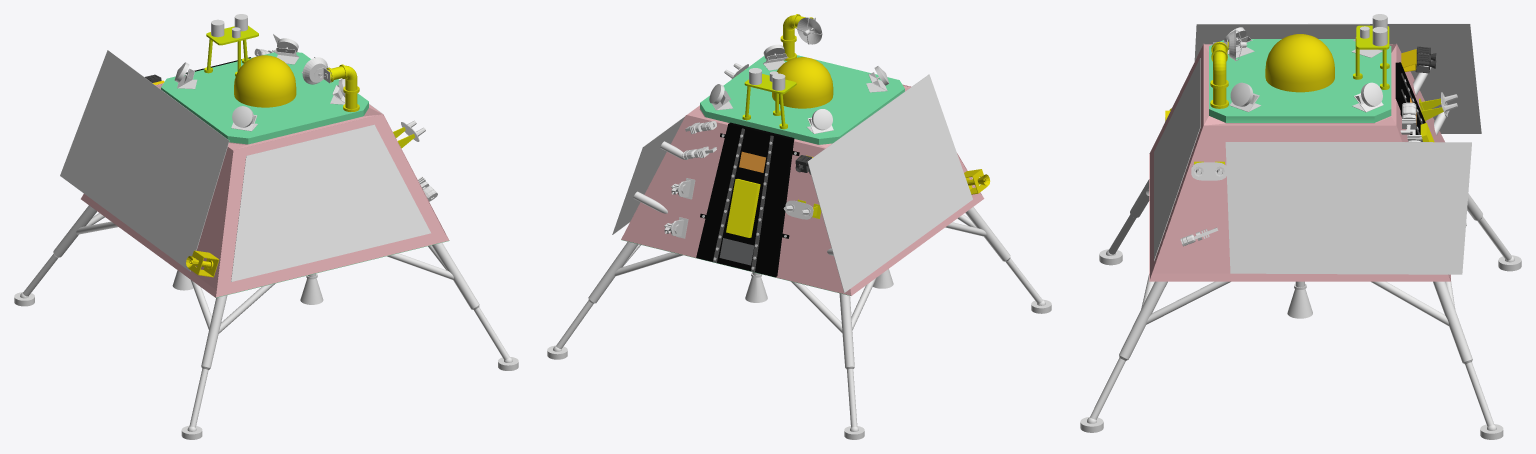
File: Lander 4.fbx
3 renders of one model, left to right at view 1: azimuth 30°, elevation 25°; view 2: azimuth 150°, elevation 25°; view 3: azimuth 270°, elevation 25°, orthographic. The views are drawn at different scales.
Visible parts, largest first — view 1: Body.001; view 2: Body.001, door; view 3: Body.001, door.
Boxes of the visible parts, left/top/right/bottom form: Body.001: left=14, top=14, right=518, bottom=439; Body.001: left=547, top=14, right=1051, bottom=439; door: left=696, top=122, right=794, bottom=277; Body.001: left=1080, top=14, right=1521, bottom=439; door: left=1395, top=62, right=1434, bottom=142.
Size of the model in its own units: 251 by 208 by 254.
